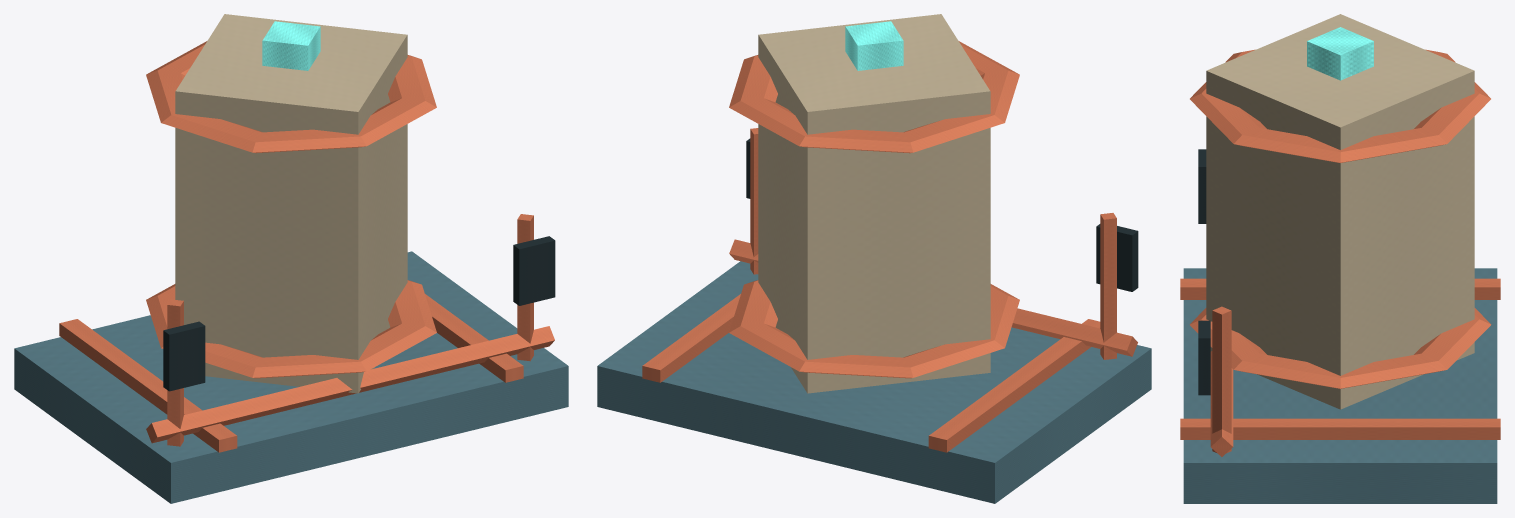
Rendered from atlas100-s046-a04.lod2.glb.
The picture shows the model from 3 angles, left to right: view 1: azimuth 30°, elevation 25°; view 2: azimuth 150°, elevation 25°; view 3: azimuth 270°, elevation 25°; orthographic projection.
Visible parts, largest first — view 1: atlas100-s046-a04:part-003, atlas100-s046-a04:part-000, atlas100-s046-a04:part-005, atlas100-s046-a04:part-011, atlas100-s046-a04:part-004, atlas100-s046-a04:part-001, atlas100-s046-a04:part-008, atlas100-s046-a04:part-010, atlas100-s046-a04:part-006, atlas100-s046-a04:part-002, atlas100-s046-a04:part-007, atlas100-s046-a04:part-009; view 2: atlas100-s046-a04:part-003, atlas100-s046-a04:part-000, atlas100-s046-a04:part-005, atlas100-s046-a04:part-004, atlas100-s046-a04:part-001, atlas100-s046-a04:part-011, atlas100-s046-a04:part-002, atlas100-s046-a04:part-006, atlas100-s046-a04:part-007, atlas100-s046-a04:part-008, atlas100-s046-a04:part-009; view 3: atlas100-s046-a04:part-003, atlas100-s046-a04:part-000, atlas100-s046-a04:part-005, atlas100-s046-a04:part-004, atlas100-s046-a04:part-002, atlas100-s046-a04:part-006, atlas100-s046-a04:part-009, atlas100-s046-a04:part-001, atlas100-s046-a04:part-010, atlas100-s046-a04:part-011, atlas100-s046-a04:part-008.
Part boxes in pixels (x1,y1,x2,y2): atlas100-s046-a04:part-003: [175, 14, 407, 393]; atlas100-s046-a04:part-000: [14, 251, 568, 503]; atlas100-s046-a04:part-005: [146, 41, 436, 153]; atlas100-s046-a04:part-011: [146, 326, 554, 443]; atlas100-s046-a04:part-004: [146, 280, 436, 378]; atlas100-s046-a04:part-001: [59, 319, 237, 452]; atlas100-s046-a04:part-008: [163, 321, 205, 391]; atlas100-s046-a04:part-010: [513, 236, 555, 305]; atlas100-s046-a04:part-006: [262, 21, 320, 70]; atlas100-s046-a04:part-002: [425, 294, 523, 382]; atlas100-s046-a04:part-007: [167, 299, 183, 446]; atlas100-s046-a04:part-009: [517, 214, 533, 361]; atlas100-s046-a04:part-003: [758, 14, 990, 393]; atlas100-s046-a04:part-000: [597, 261, 1151, 503]; atlas100-s046-a04:part-005: [729, 41, 1019, 153]; atlas100-s046-a04:part-004: [729, 280, 1019, 378]; atlas100-s046-a04:part-001: [928, 319, 1100, 452]; atlas100-s046-a04:part-011: [729, 239, 1137, 356]; atlas100-s046-a04:part-002: [642, 294, 740, 382]; atlas100-s046-a04:part-006: [845, 21, 903, 70]; atlas100-s046-a04:part-007: [1100, 213, 1116, 359]; atlas100-s046-a04:part-008: [1096, 224, 1138, 291]; atlas100-s046-a04:part-009: [750, 128, 758, 274]; atlas100-s046-a04:part-003: [1206, 14, 1474, 409]; atlas100-s046-a04:part-000: [1183, 268, 1497, 503]; atlas100-s046-a04:part-005: [1190, 49, 1490, 162]; atlas100-s046-a04:part-004: [1189, 308, 1491, 388]; atlas100-s046-a04:part-002: [1180, 418, 1500, 439]; atlas100-s046-a04:part-006: [1307, 27, 1373, 80]; atlas100-s046-a04:part-009: [1212, 306, 1231, 452]; atlas100-s046-a04:part-001: [1180, 278, 1500, 299]; atlas100-s046-a04:part-010: [1198, 320, 1210, 395]; atlas100-s046-a04:part-011: [1210, 351, 1233, 456]; atlas100-s046-a04:part-008: [1198, 149, 1206, 223].
Size of the model in its own units: 2.64 by 2.31 by 1.84.
5 materials, 5 textured.
